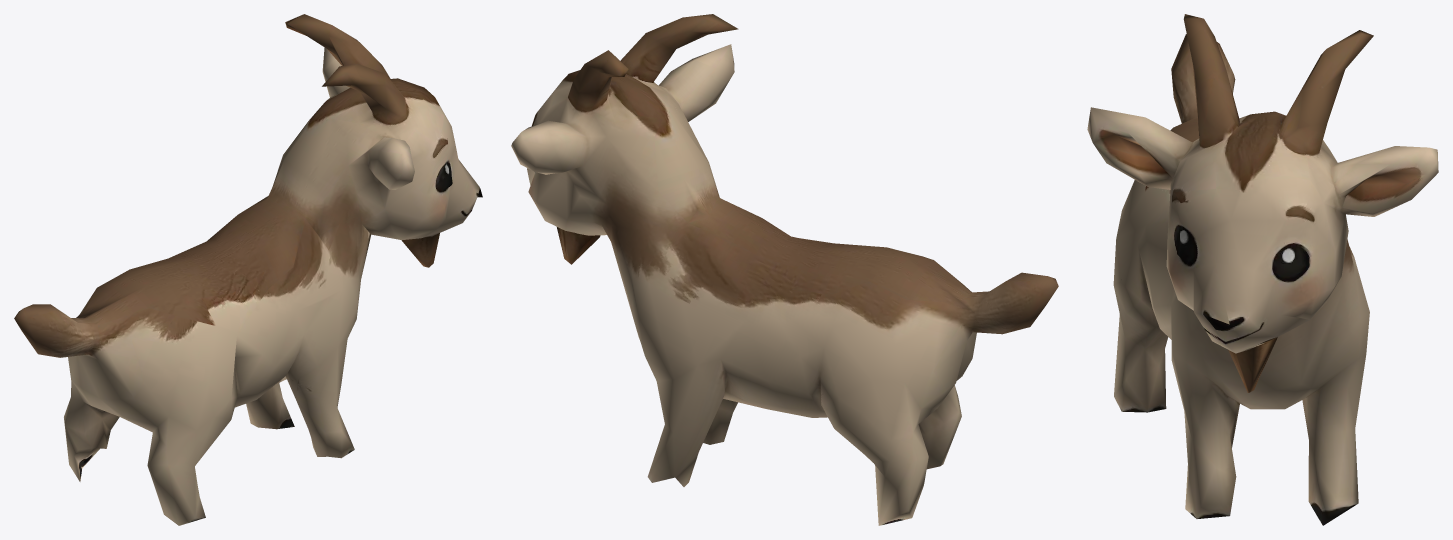
File: toad-thing-goat.glb
3 views of the same model, side by side, from view 1: azimuth 30°, elevation 25°; view 2: azimuth 150°, elevation 25°; view 3: azimuth 270°, elevation 25° (orthographic). The views are drawn at different scales.
Parts seen in each view (by area): view 1: lo; view 2: lo; view 3: lo.
Part boxes in pixels (x1=…): lo: x1=14, y1=14, x2=482, y2=525; lo: x1=511, y1=14, x2=1058, y2=525; lo: x1=1087, y1=14, x2=1438, y2=525.
Bounding box in the file's own units: 0.8858 × 0.6998 × 0.4393.
1 material, 1 textured.
